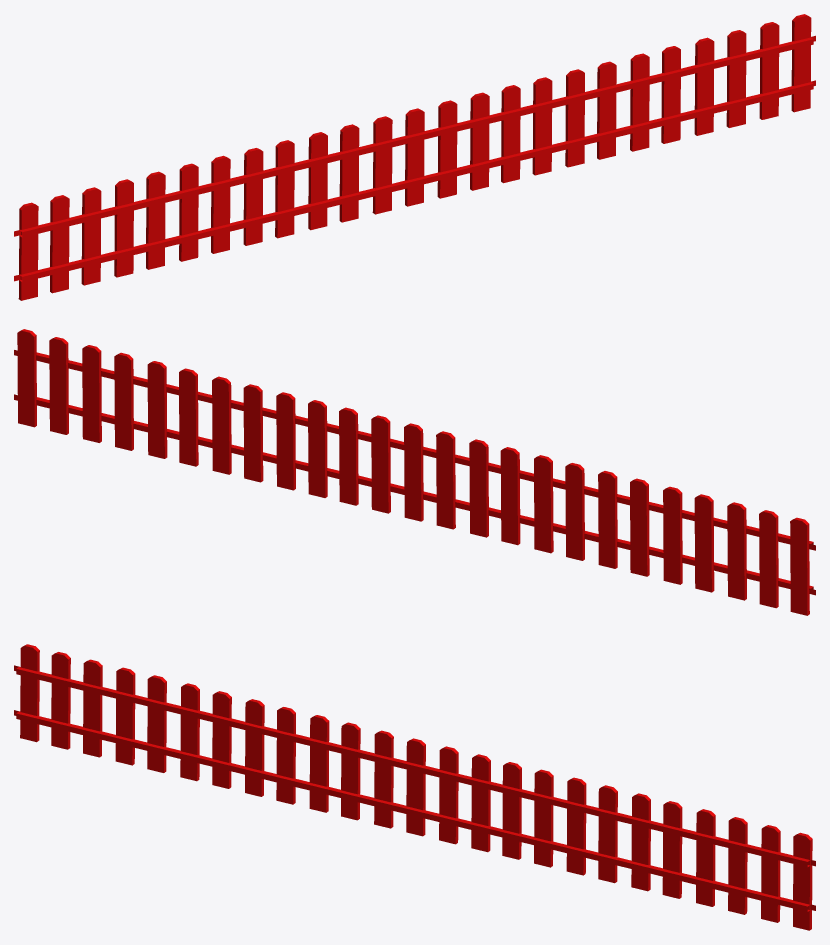
Rendered from VallaMinijuego.fbx.
3 views of the same model, one above another, from view 1: azimuth 30°, elevation 25°; view 2: azimuth 150°, elevation 25°; view 3: azimuth 330°, elevation 25° (orthographic).
Visible parts, largest first — view 1: Vallaminijuego; view 2: Vallaminijuego; view 3: Vallaminijuego.
Boxes of the visible parts, x1,y1,x2,y2 form: Vallaminijuego: (14, 14, 815, 300); Vallaminijuego: (14, 329, 815, 615); Vallaminijuego: (14, 644, 815, 930).
Bounding box in the file's own units: 847 × 94.3 × 8.85.
